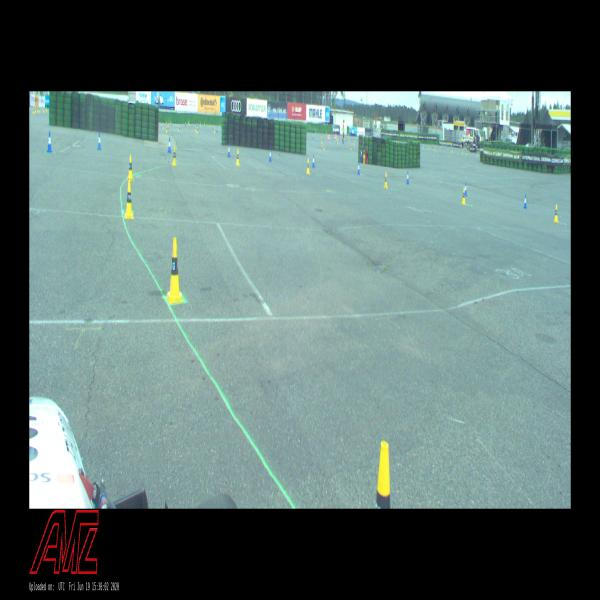blue_cone: (47, 131, 52, 153), (167, 137, 172, 153), (98, 133, 102, 150), (268, 149, 272, 162), (524, 194, 527, 209), (464, 182, 467, 196), (406, 171, 409, 184), (357, 162, 360, 175), (312, 155, 315, 168), (228, 144, 230, 157)
yellow_cone: (166, 237, 183, 302), (124, 180, 134, 219), (128, 154, 134, 180), (172, 146, 177, 166), (554, 204, 558, 223), (236, 149, 240, 166), (306, 158, 310, 175), (384, 172, 387, 189), (462, 188, 465, 205)
